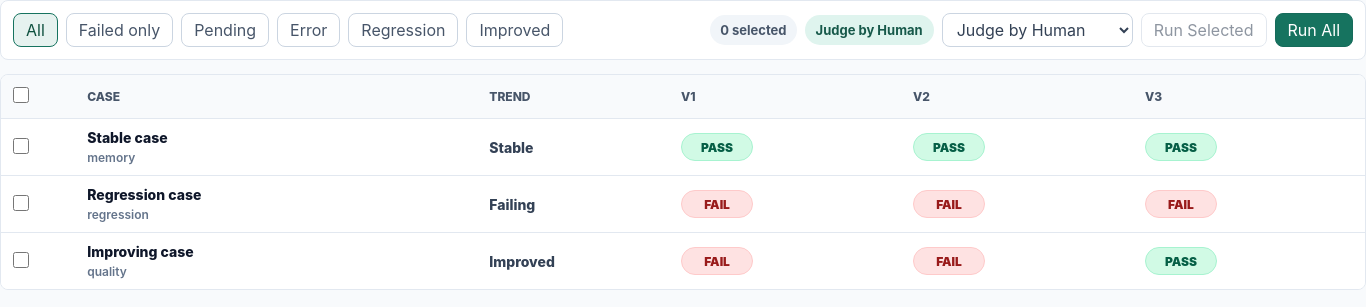
Test case: VersionMatrix › selects all visible cases without hidden selections controlling header state
Click the checkbox named "Select Stable case" at (21, 146), box [13, 138, 29, 154]
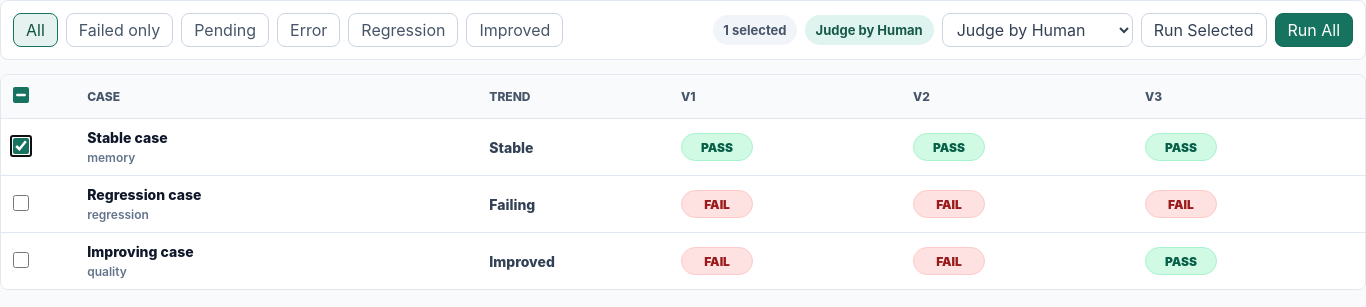
Click the button "Failed only" at (120, 30), box [66, 13, 173, 47]
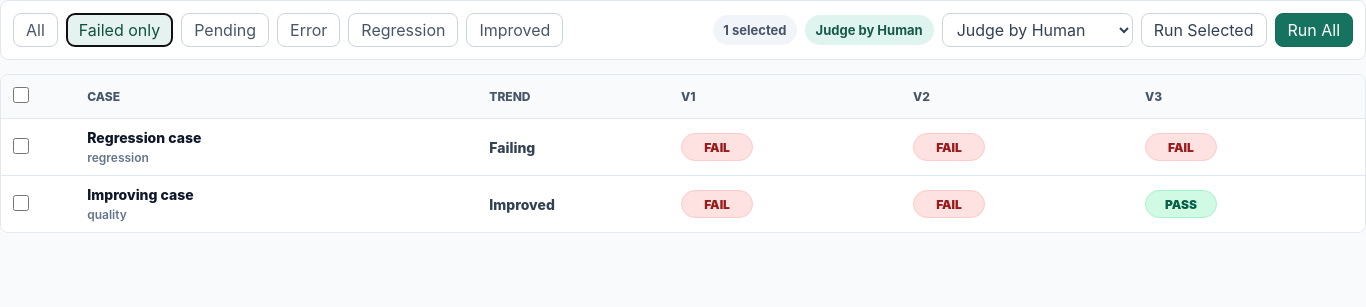
Check: the checkbox named "Select all visible cases" is not checked, box [13, 87, 29, 103]
Click the checkbox named "Select Regression case" at (21, 146), box [13, 138, 29, 154]
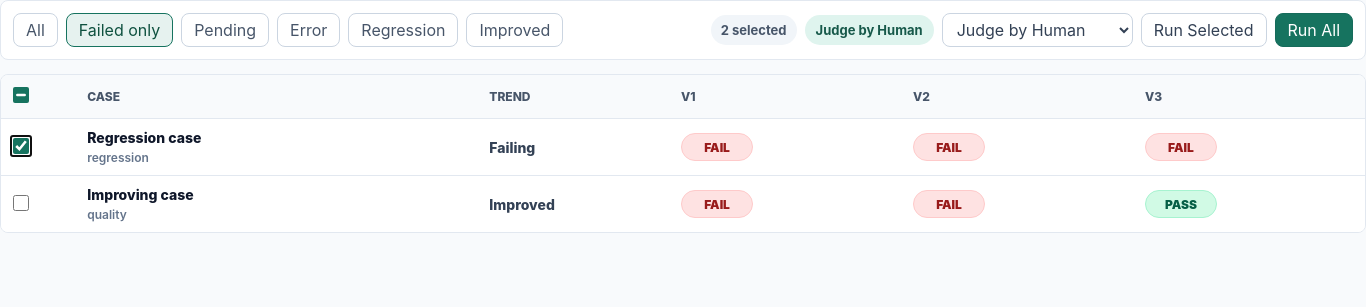
Check: the checkbox named "Select all visible cases" has attribute aria-checked="mixed"
Click the checkbox named "Select all visible cases" at (21, 95), box [13, 87, 29, 103]
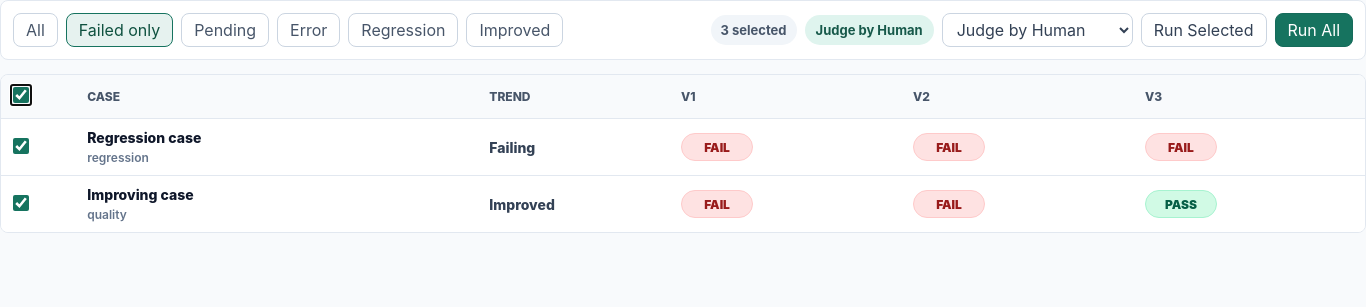
Check: the checkbox named "Select all visible cases" is checked, box [13, 87, 29, 103]
Check: the checkbox named "Select Regression case" is checked, box [13, 138, 29, 154]
Check: the checkbox named "Select Improving case" is checked, box [13, 194, 29, 210]
